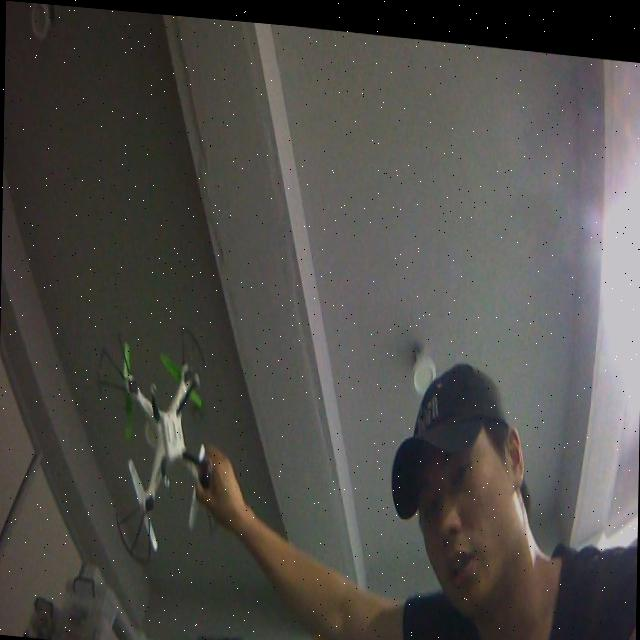drone: (92, 310, 236, 573)
